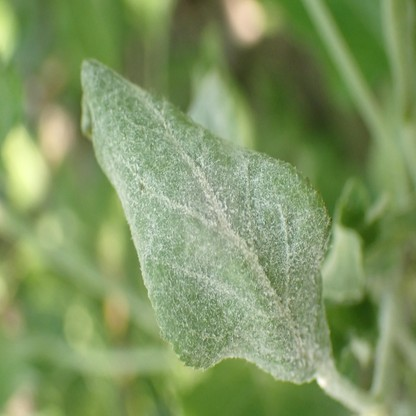powdery_mildew: (79, 45, 334, 380)
